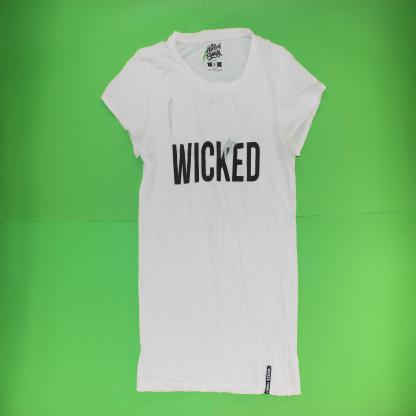hole: (222, 137, 238, 163), (166, 97, 175, 138), (202, 44, 211, 63)
